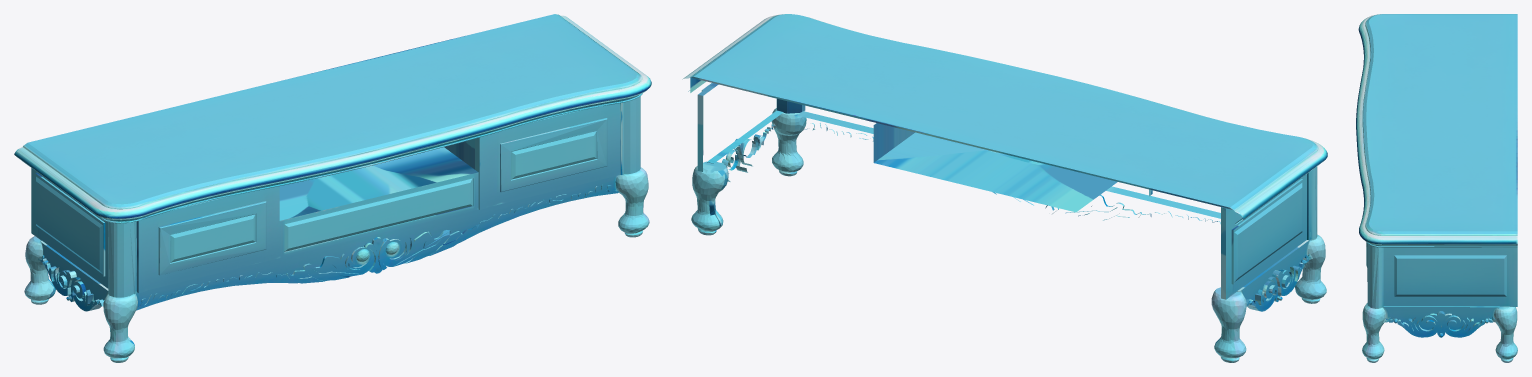
The model's file is edited_mesh.glb.
The picture shows the model from 3 angles, left to right: view 1: azimuth 30°, elevation 25°; view 2: azimuth 150°, elevation 25°; view 3: azimuth 270°, elevation 25°; orthographic projection. The views are drawn at different scales.
Visible parts, largest first — view 1: solid_001_wire; view 2: solid_001_wire; view 3: solid_001_wire.
Boxes of the visible parts, bbox=[...] form: solid_001_wire: bbox=[14, 14, 651, 362]; solid_001_wire: bbox=[682, 14, 1327, 362]; solid_001_wire: bbox=[1356, 14, 1517, 362].
Size of the model in its own units: 2 by 0.5386 by 0.6003.
Materials: 1 (1 with a texture image).
